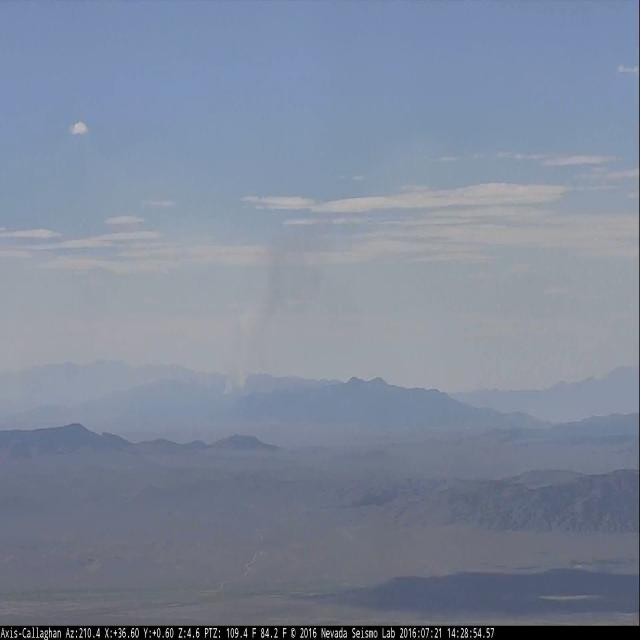smoke: (220, 215, 330, 397)
